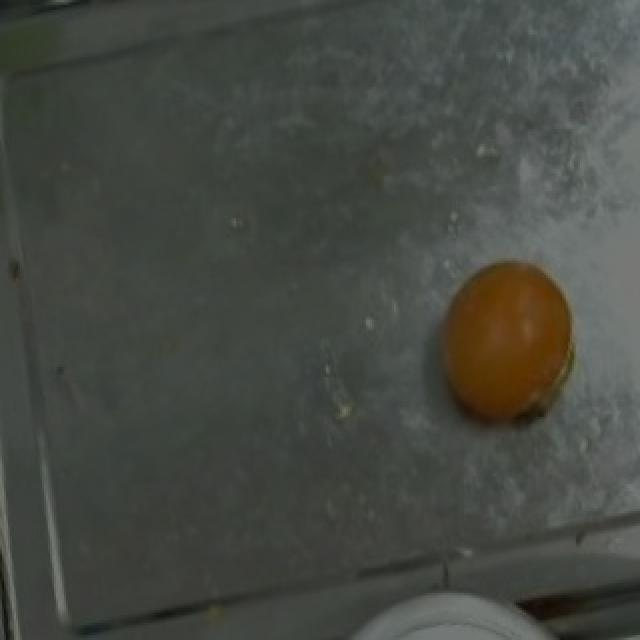Fruit: (420, 243, 600, 444)
